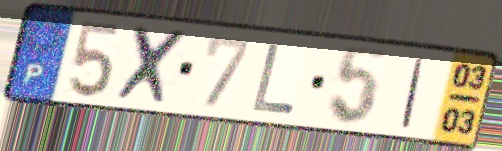5: (328, 46, 389, 129), (64, 18, 125, 100)
7: (202, 33, 253, 112)
I: (397, 54, 428, 131)
L: (248, 40, 298, 117)
X: (112, 23, 194, 109)
